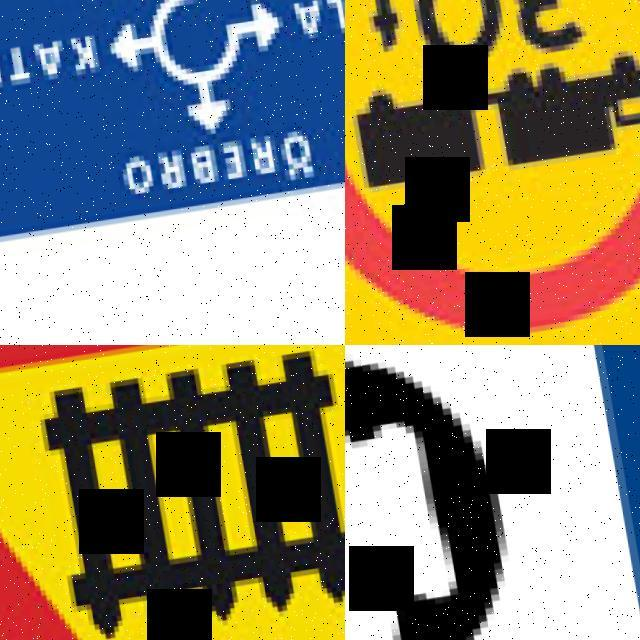143: (0, 345, 345, 640)
83: (0, 0, 345, 281)
Telephone: (345, 345, 640, 640)
axle weight limit 30tonnes: (345, 0, 640, 345)
